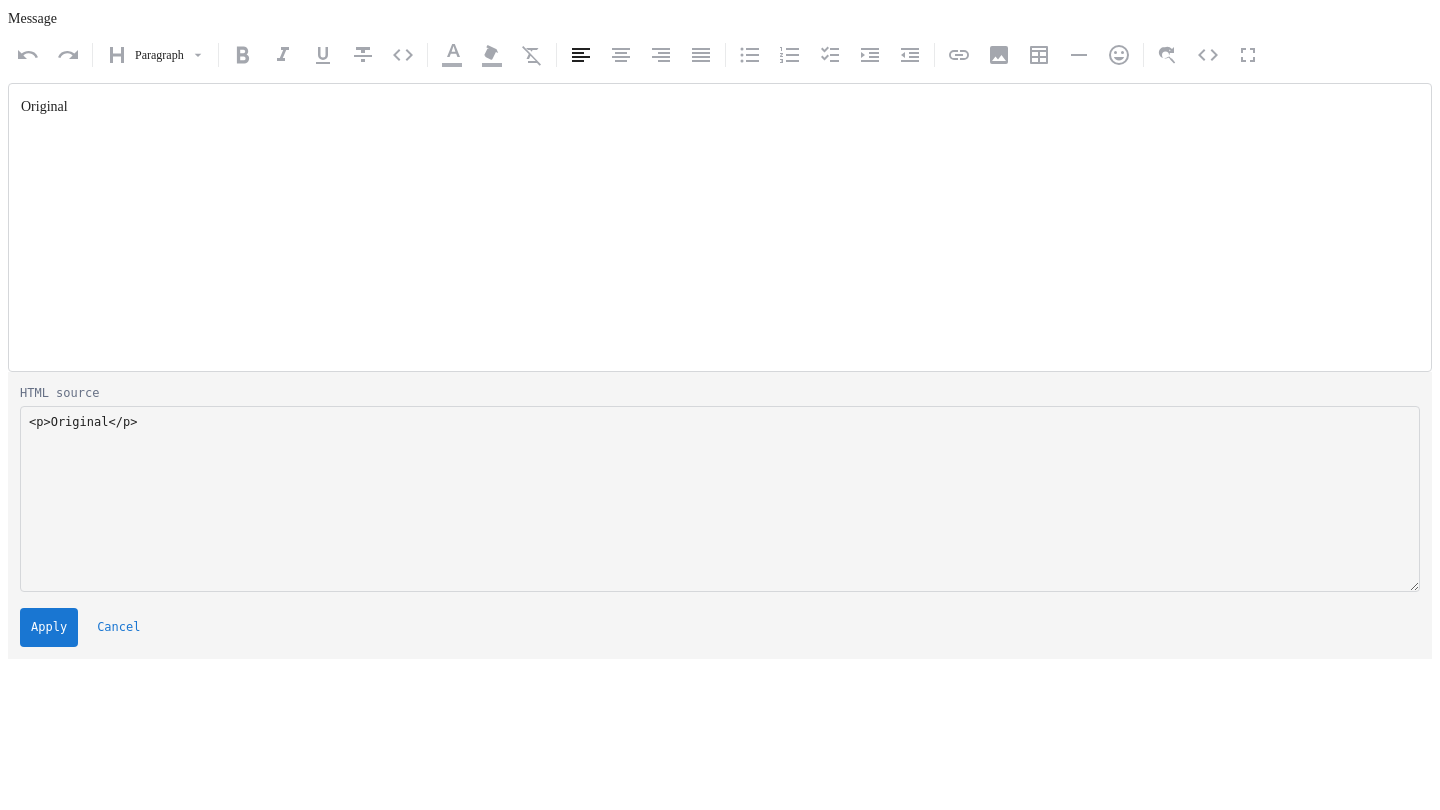
it: the source view › refuses markup that sanitizes away to nothing
This screenshot has width=1440, height=810.
Replace the text in the text box with "<script>alert(1)</script>": (720, 499) [20,406,1420,592]
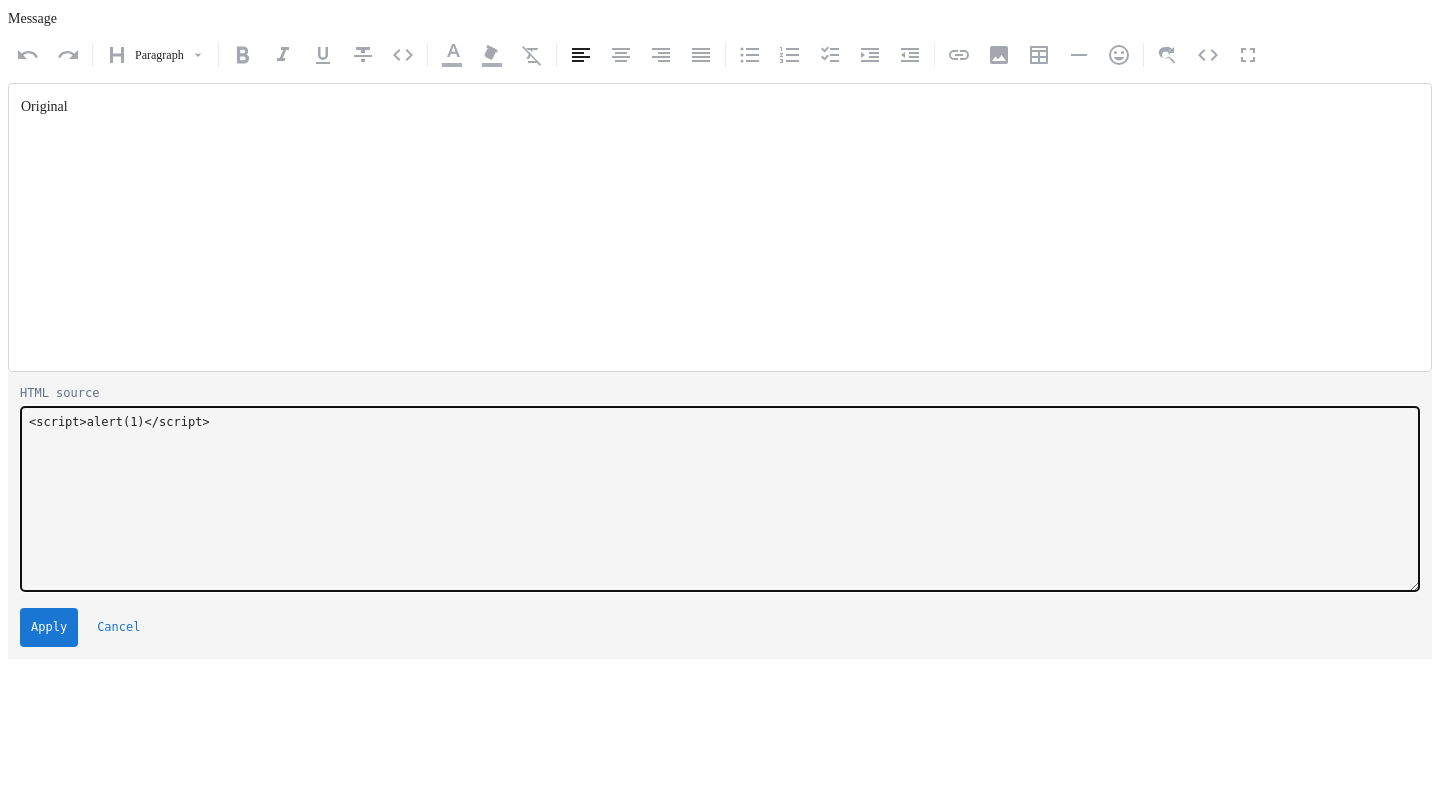
Click the button "Apply": (49, 627) [20,608,78,647]
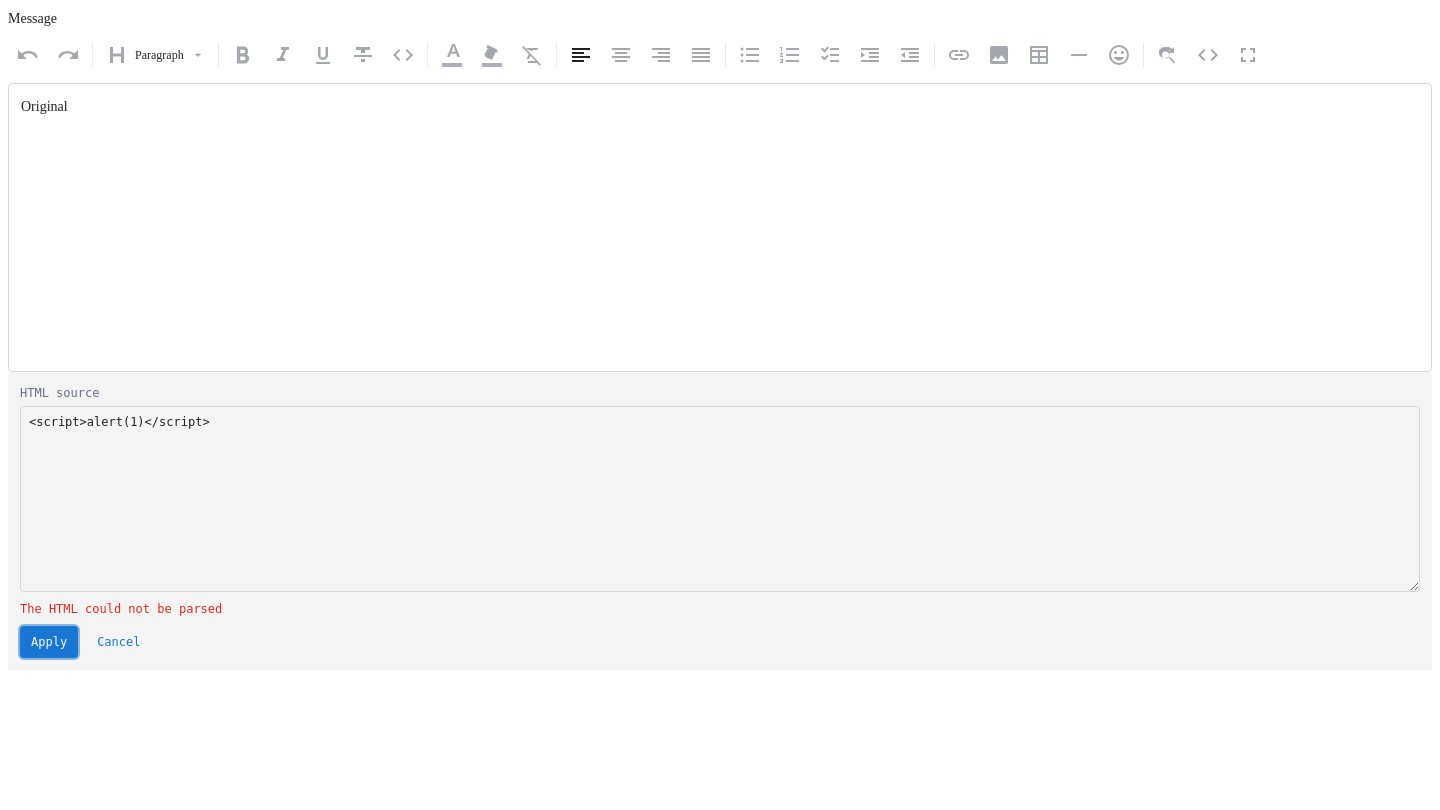
Expected: the message "The HTML could not be parsed" is shown, [20,602,222,616]
